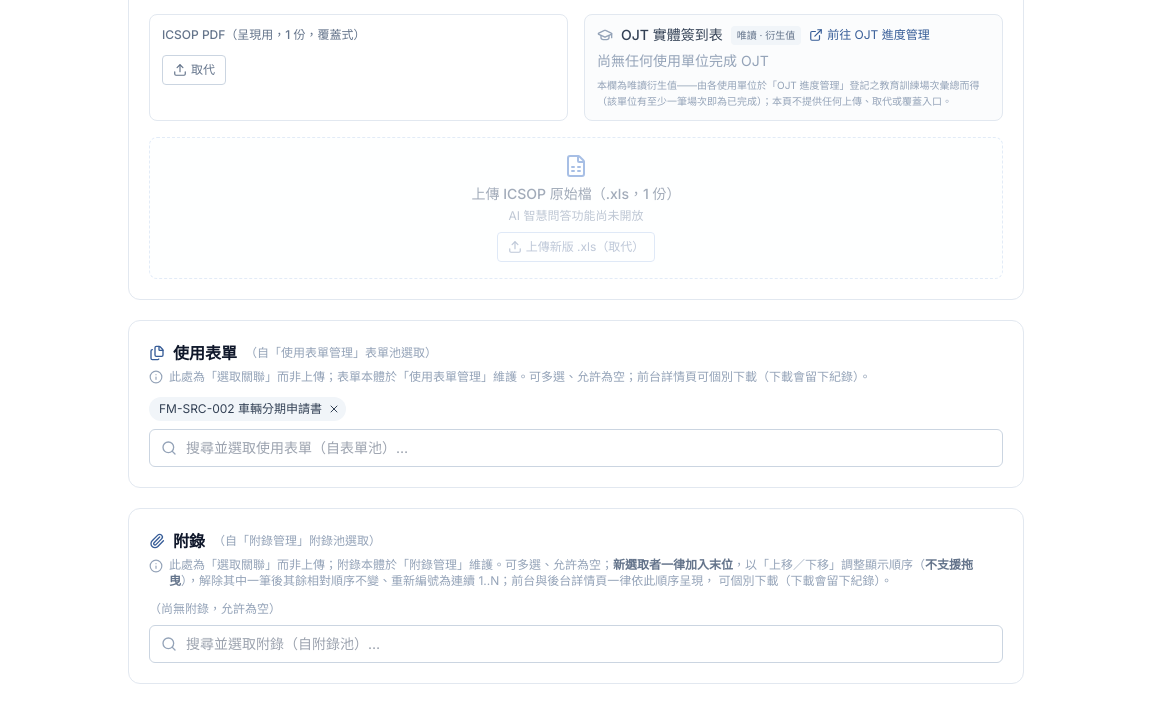
Scenario: DocumentEditPage — 使用表單之編號顯示與搜尋（2026-08-26 UX ②） › 無編號表單僅顯示名稱（無前導空格、不出現 null）
The image size is (1152, 720).
(page scrolled)
Click the dropdown labelled "使用表單": (576, 448) [149,428,1003,466]
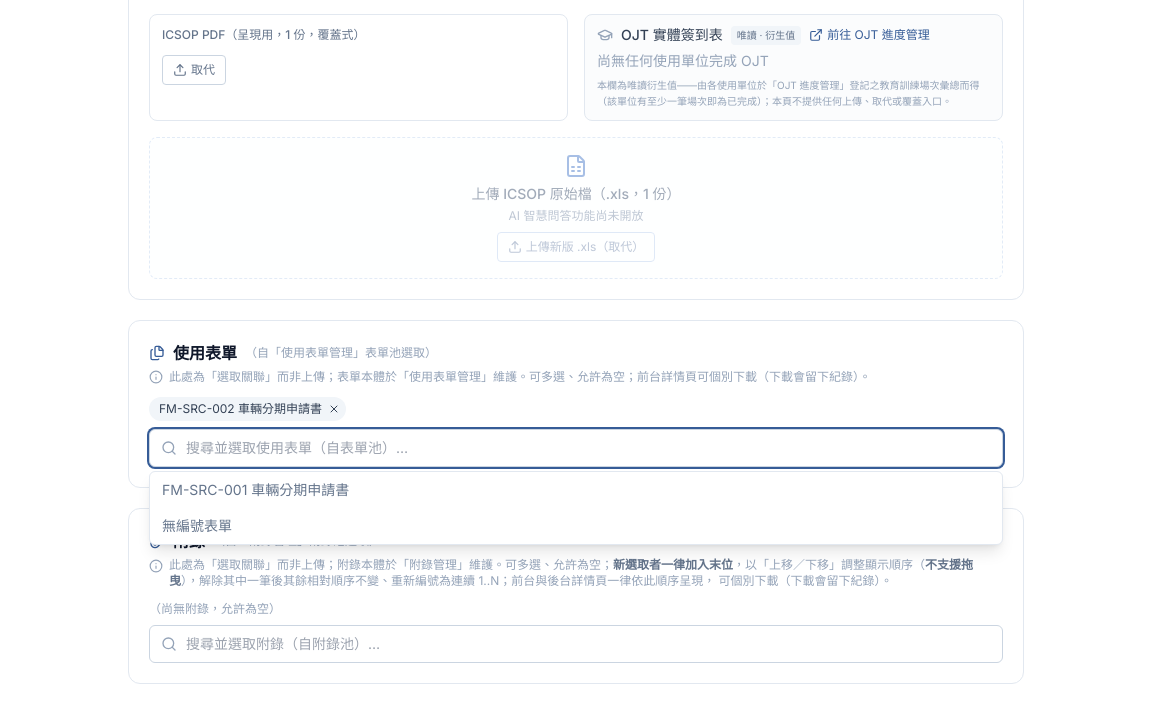
expect the option "無編號表單" is shown: met, box [150,508,1002,544]
